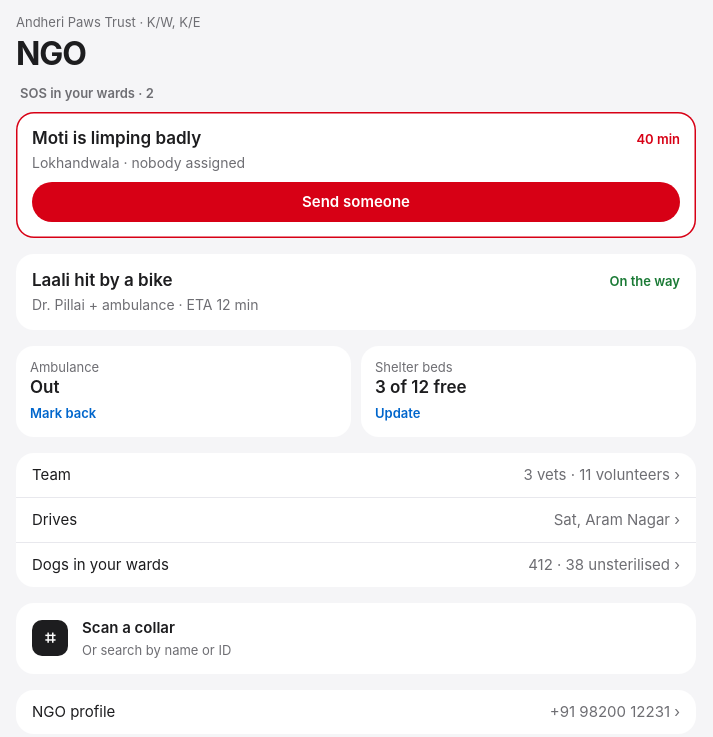
Test: N2 NGO tab › Mark back puts the ambulance in
The width and height of the screenshot is (713, 737).
Click the button "Mark back": (63, 413) [30,404,96,423]
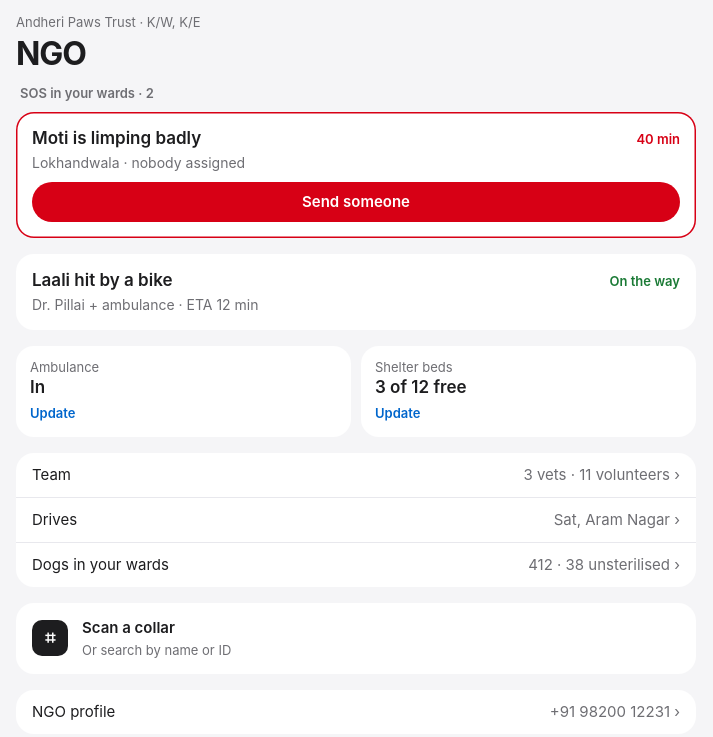
Expected: the text "In" is shown, [30,377,45,397]
